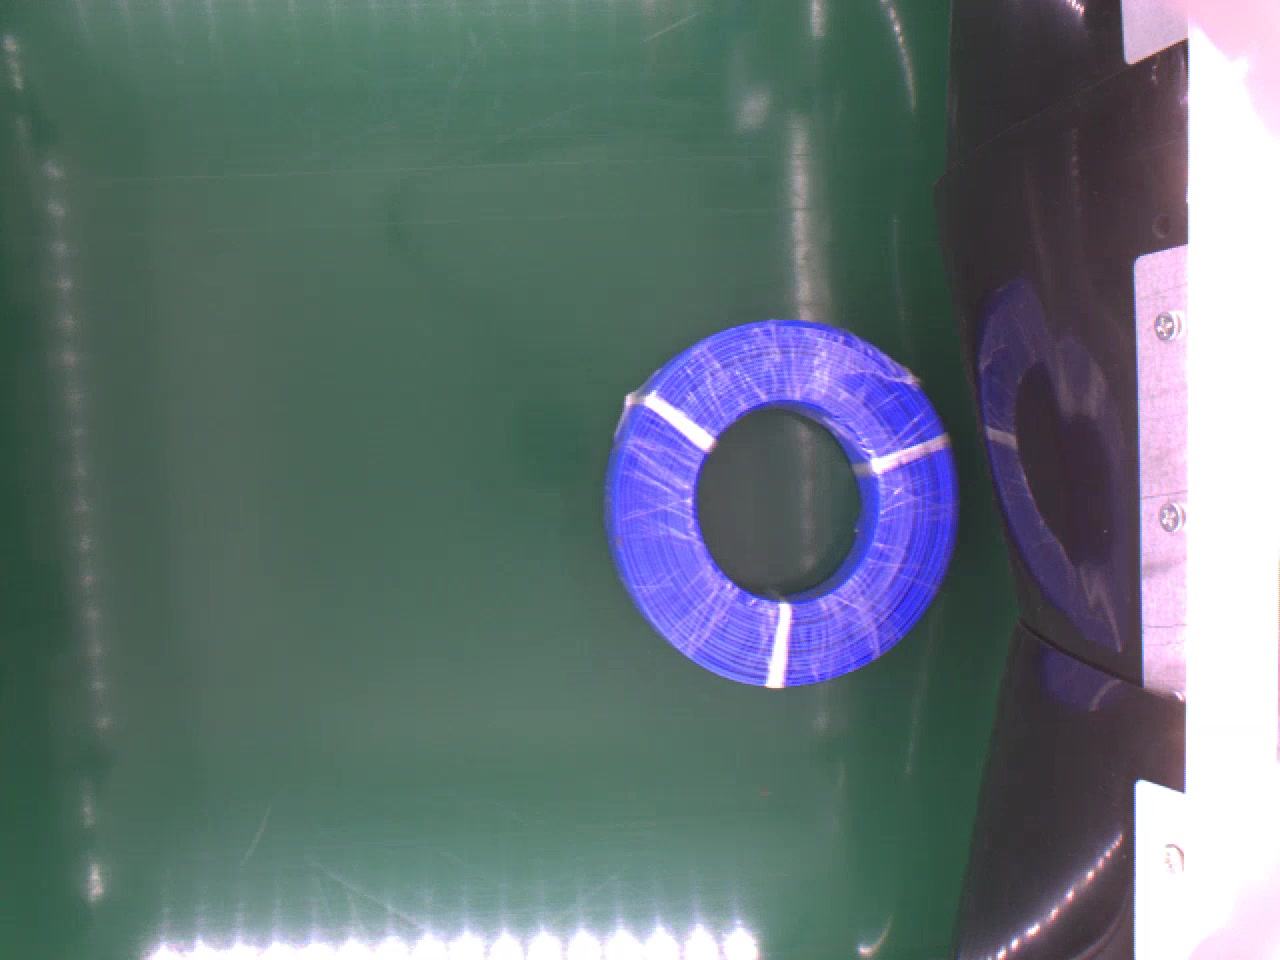blue: (603, 315, 958, 692)
